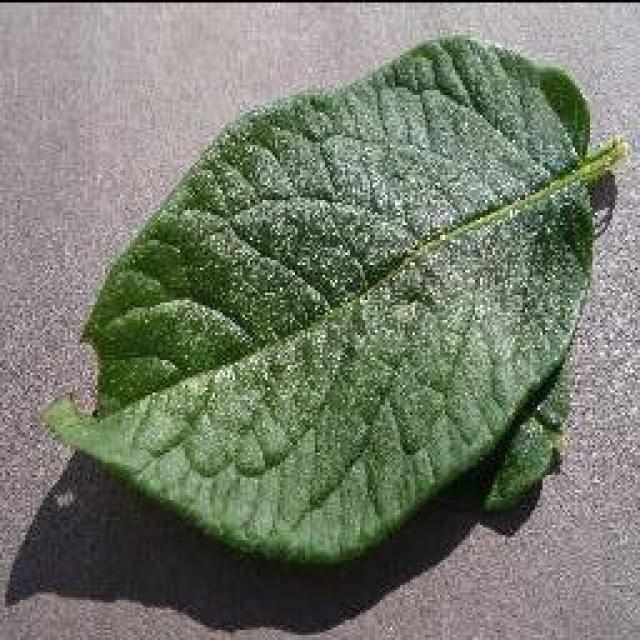Potato___healthy: (35, 35, 633, 567)
